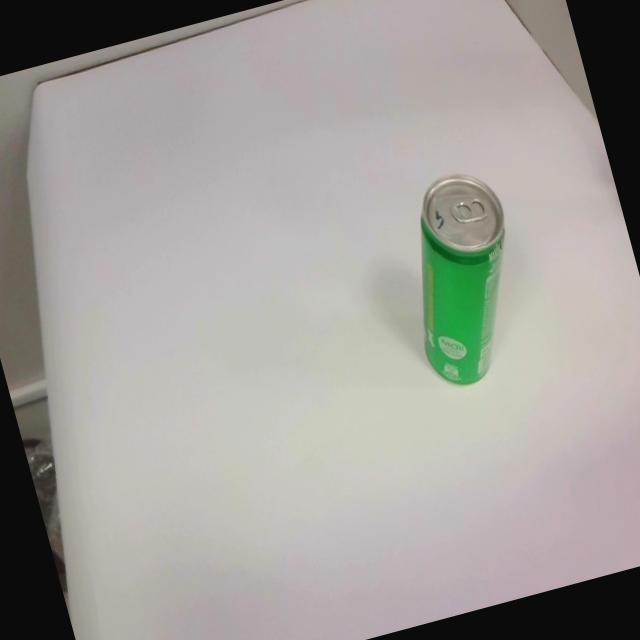debris: (380, 162, 544, 394)
